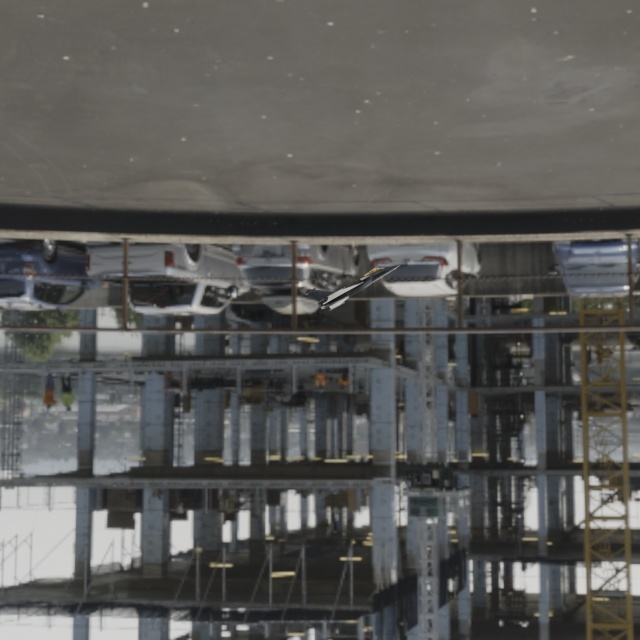dassault_rafale: (302, 239, 402, 320)
